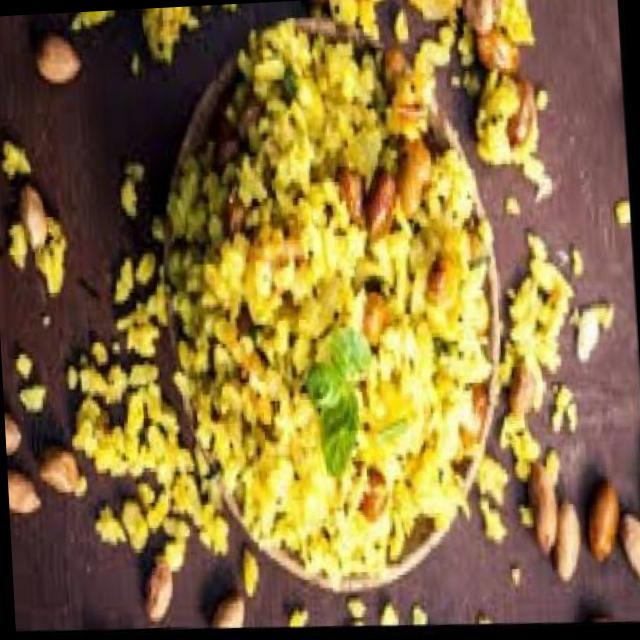poha: (155, 9, 516, 607)
